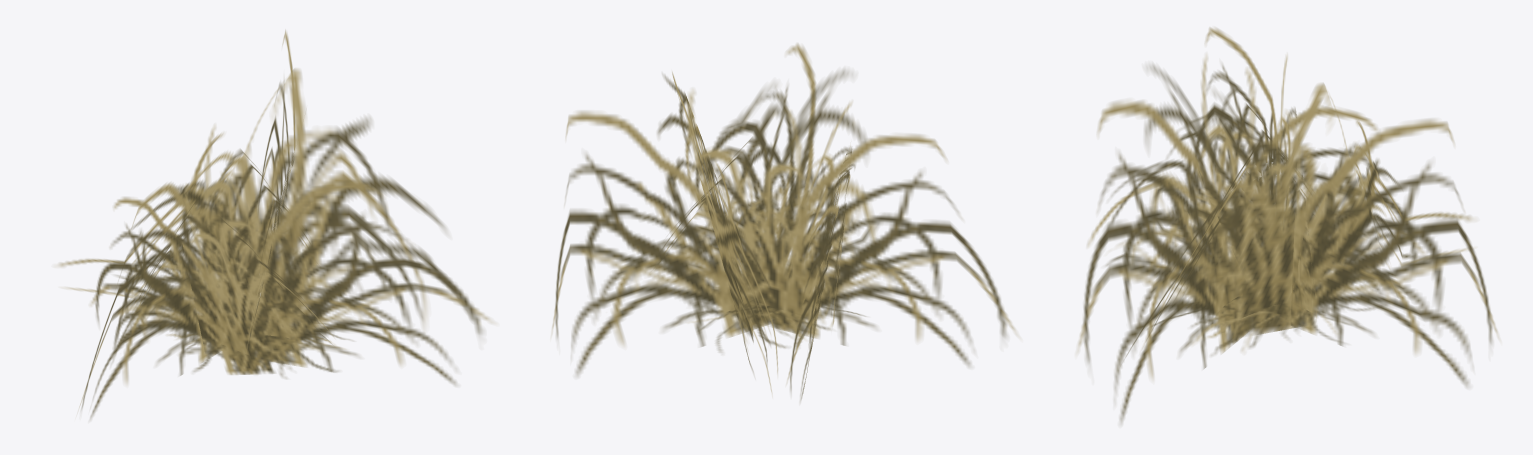
File: ichu_06.glb
3 renders of one model, left to right at view 1: azimuth 30°, elevation 25°; view 2: azimuth 150°, elevation 25°; view 3: azimuth 270°, elevation 25°, orthographic. The views are drawn at different scales.
Visible parts, largest first — view 1: Ichu; view 2: Ichu; view 3: Ichu.
Boxes of the visible parts, x1,y1,x2,y2 form: Ichu: [57, 30, 493, 419]; Ichu: [552, 43, 1017, 401]; Ichu: [1077, 27, 1498, 423].
Bounding box in the file's own units: 0.3822 × 0.31 × 0.3271.
Materials: 1 (1 with a texture image).
